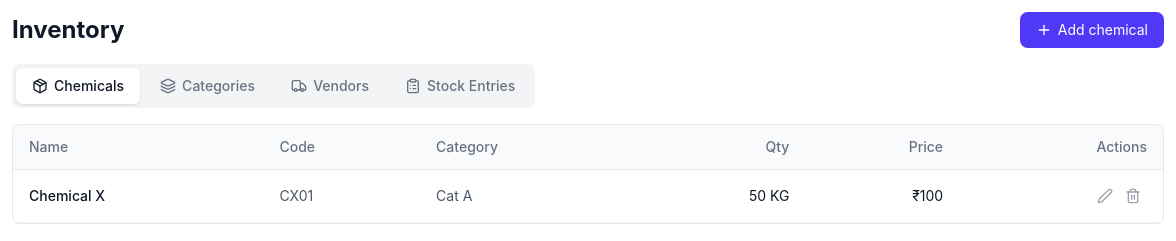
Test case: Inventory › shows vendor data in Vendors tab
Click the button "Vendors": (330, 86) x1=275 y1=68 x2=385 y2=104
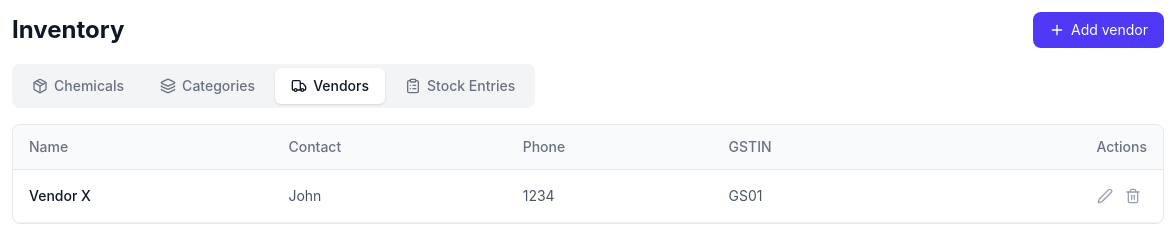
Check: the text "Vendor X" is shown, box x1=13 y1=170 x2=272 y2=222
